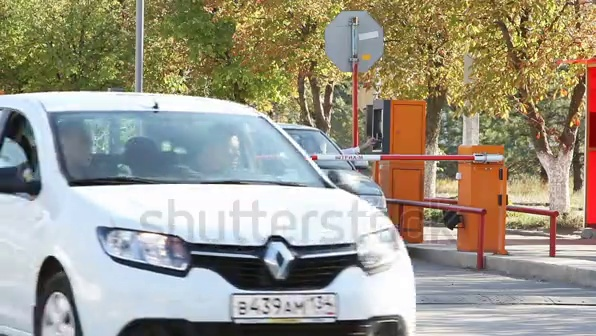licenseplate: (228, 292, 344, 322)
